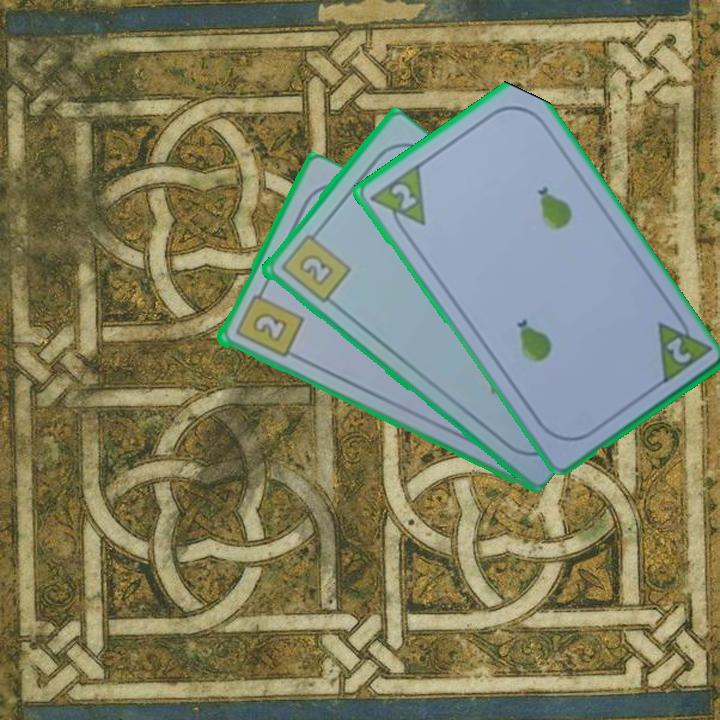2b: (276, 225, 353, 306), (231, 283, 306, 361)
2p: (387, 179, 419, 213), (662, 333, 694, 367)
